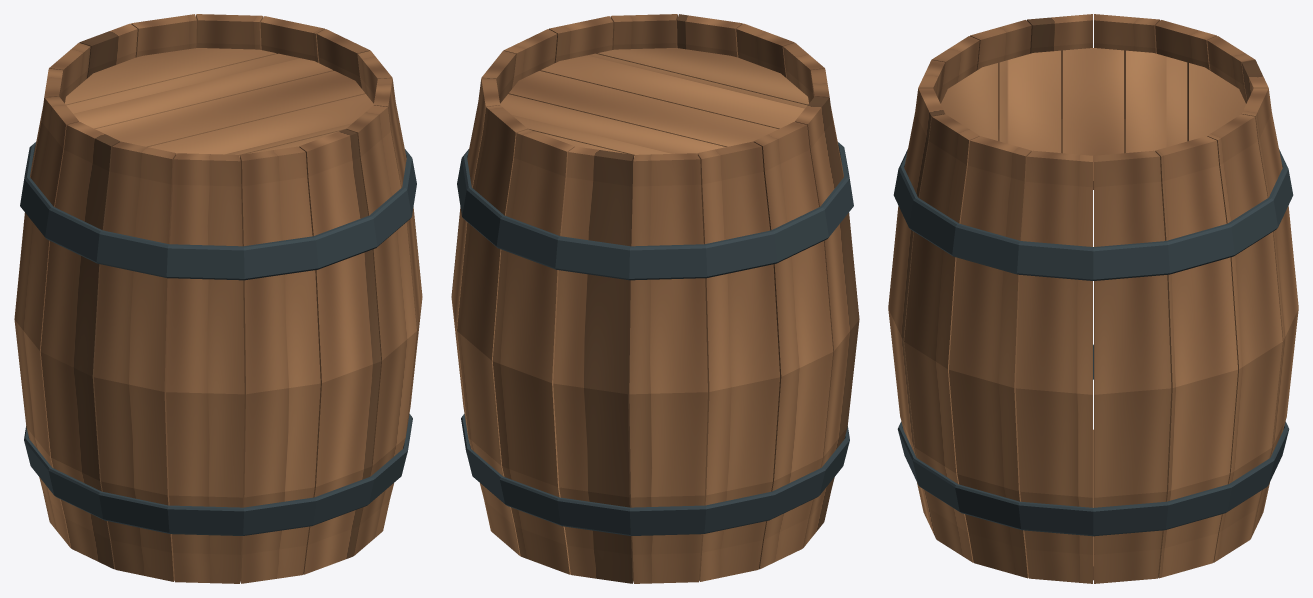
The model's file is aether_wooden_barrel_v01_LOD1.glb.
The picture shows the model from 3 angles, left to right: view 1: azimuth 30°, elevation 25°; view 2: azimuth 150°, elevation 25°; view 3: azimuth 270°, elevation 25°; orthographic projection.
Visible parts, largest first — view 1: aether_wooden_barrel_v01_LOD1; view 2: aether_wooden_barrel_v01_LOD1; view 3: aether_wooden_barrel_v01_LOD1.
Part boxes in pixels (bbox=[...]): aether_wooden_barrel_v01_LOD1: bbox=[14, 14, 422, 583]; aether_wooden_barrel_v01_LOD1: bbox=[451, 14, 859, 583]; aether_wooden_barrel_v01_LOD1: bbox=[888, 14, 1298, 583].
Size of the model in its own units: 0.93 by 1.06 by 0.93.
2 materials, 1 textured.
